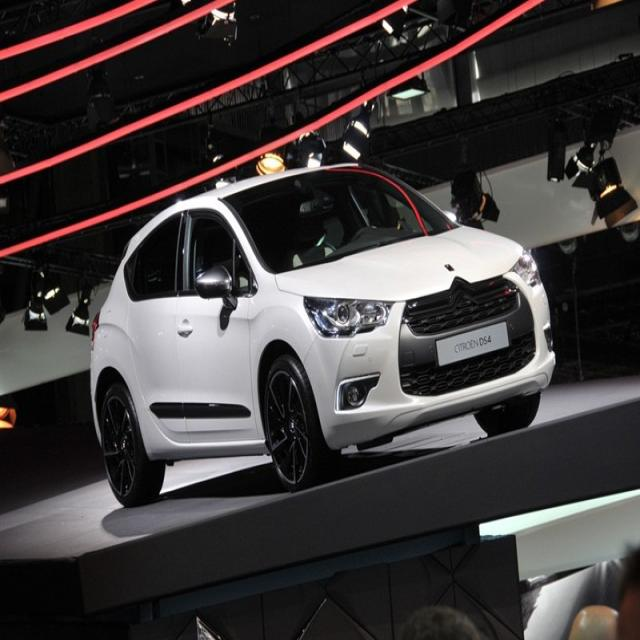back_right_side_light: (90, 310, 103, 356)
front_bumper: (302, 284, 556, 450)
front_glass: (220, 164, 462, 275)
front_left_side_light: (508, 244, 545, 290)
front_right_side_door: (174, 204, 263, 453)
front_right_side_light: (299, 290, 391, 341)
front_right_side_mirror: (194, 263, 236, 307)
wheel: (262, 356, 328, 488), (100, 384, 162, 507)
